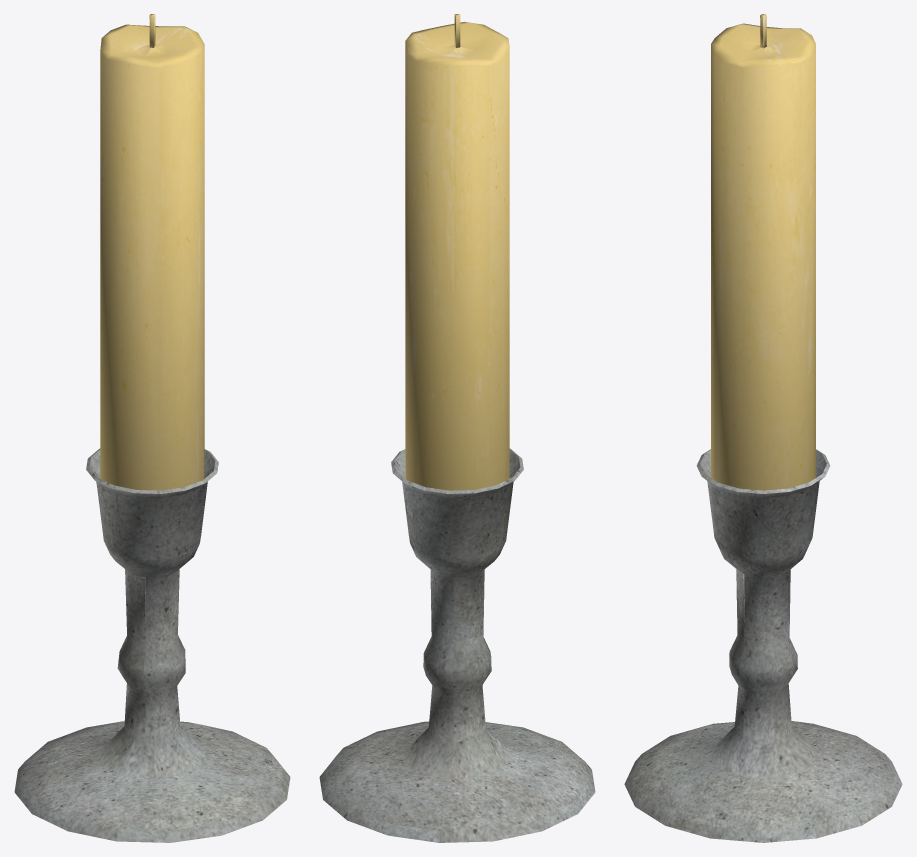
Rendered from table_candle.glb.
3 views of the same model, side by side, from view 1: azimuth 30°, elevation 25°; view 2: azimuth 150°, elevation 25°; view 3: azimuth 270°, elevation 25° (orthographic).
Parts seen in each view (by area): view 1: Candlestick Table_Iron_0; view 2: Candlestick Table_Iron_0; view 3: Candlestick Table_Iron_0.
Boxes of the visible parts, <box> form: Candlestick Table_Iron_0: <box>14,14,290,842</box>; Candlestick Table_Iron_0: <box>319,14,595,842</box>; Candlestick Table_Iron_0: <box>624,14,902,842</box>.
Bounding box in the file's own units: 0.0328 × 0.1 × 0.0328.
2 materials, 2 textured.
